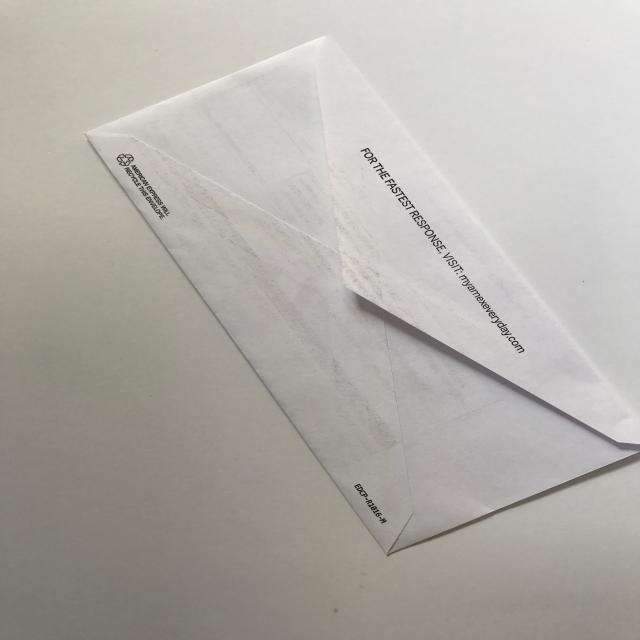paper: (85, 34, 640, 555)
